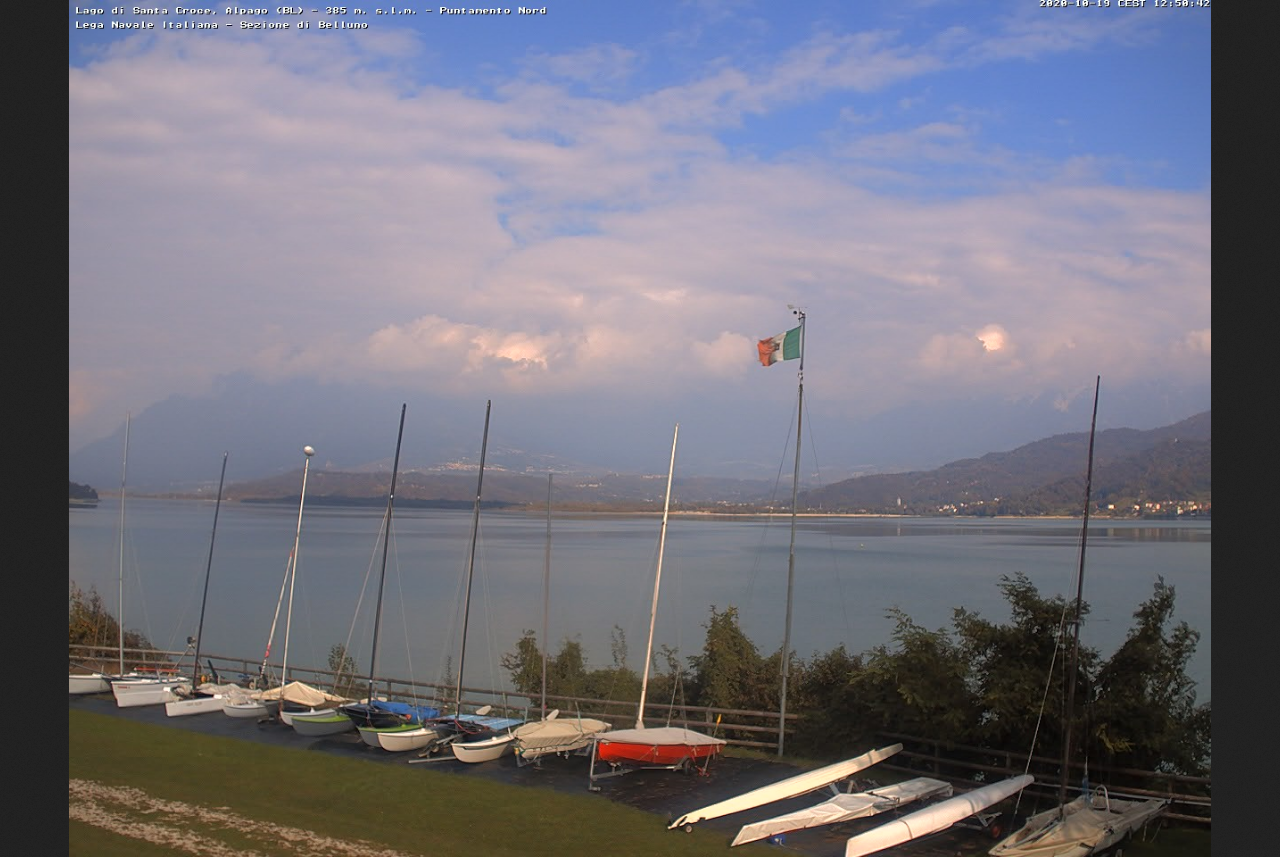yes: (757, 327, 801, 367)
